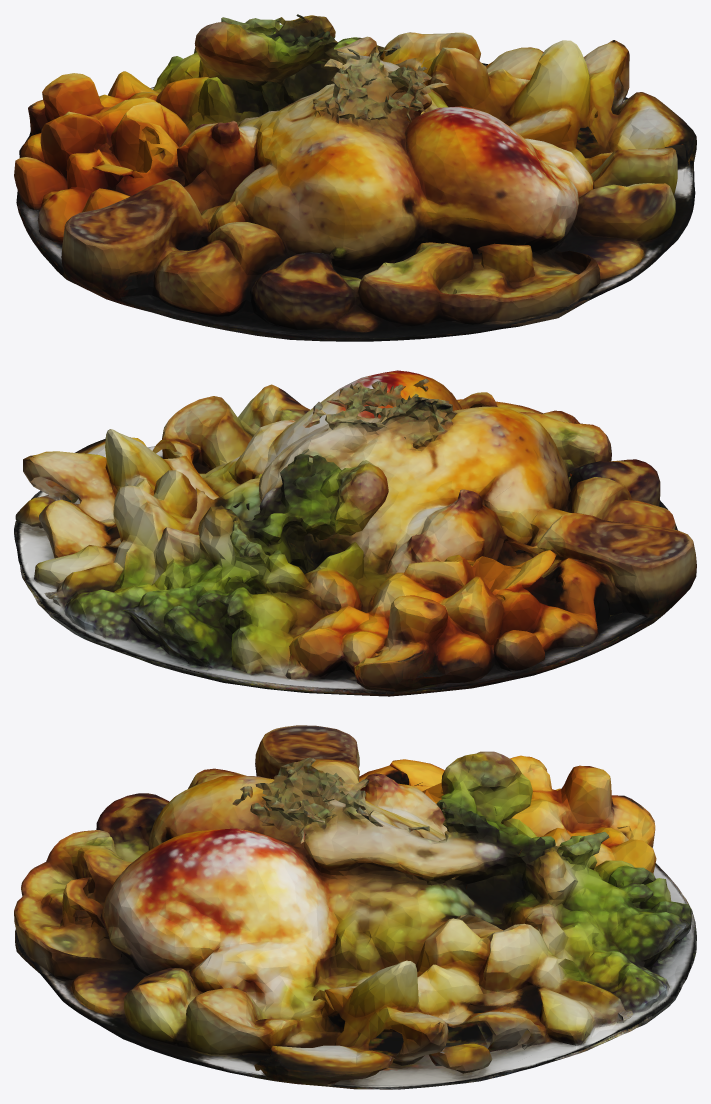
The model's file is pollo-asado.glb.
3 views of the same model, one above another, from view 1: azimuth 30°, elevation 25°; view 2: azimuth 150°, elevation 25°; view 3: azimuth 270°, elevation 25° (orthographic). The views are drawn at different scales.
Parts seen in each view (by area): view 1: world; view 2: world; view 3: world.
Part boxes in pixels (x1=…): world: x1=14, y1=14, x2=696, y2=341; world: x1=14, y1=370, x2=696, y2=696; world: x1=14, y1=725, x2=696, y2=1089.
Size of the model in its own units: 0.27 by 0.0662 by 0.2547.
1 material, 1 textured.
